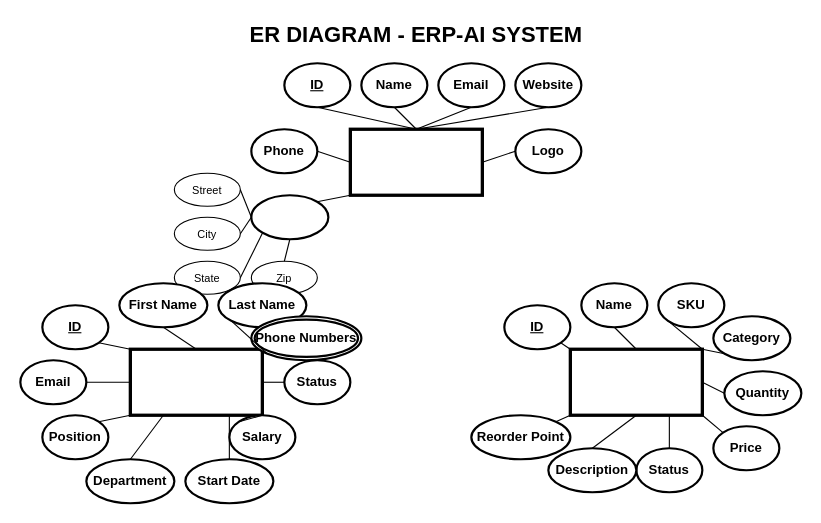
Some shapes in this 821 by 523 pixel diagram are drawn without their labels. The centre of each missing label's shape, as x and y in pixels:
Address: (x=289, y=217)
COMPANY: (x=415, y=161)
EMPLOYEE: (x=195, y=381)
INVENTORY: (x=635, y=381)
